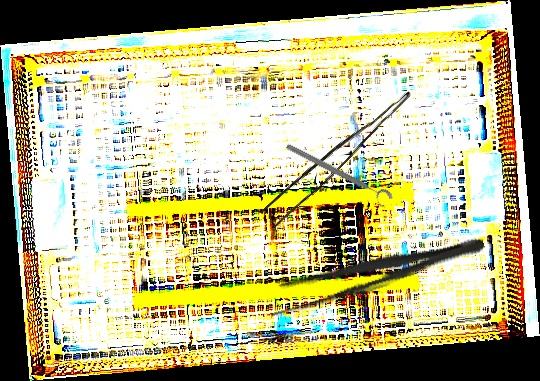Dressing Forceps: (263, 225, 489, 323)
Fixation Ring: (281, 140, 395, 211)
Tissue Forceps: (259, 75, 412, 233)
